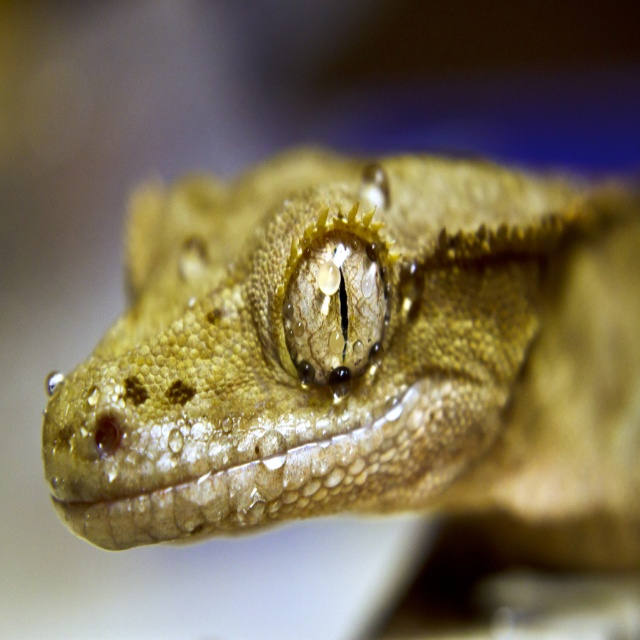Lizard: (41, 145, 638, 567)
